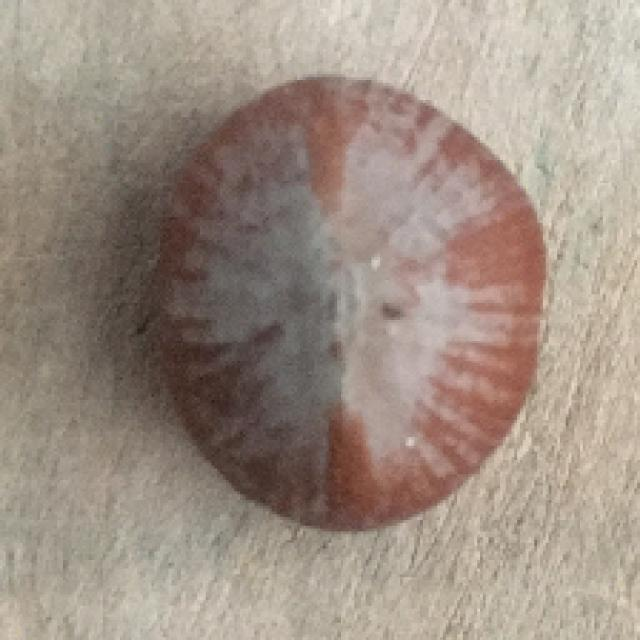qualityHazelnut: (149, 74, 549, 534)
